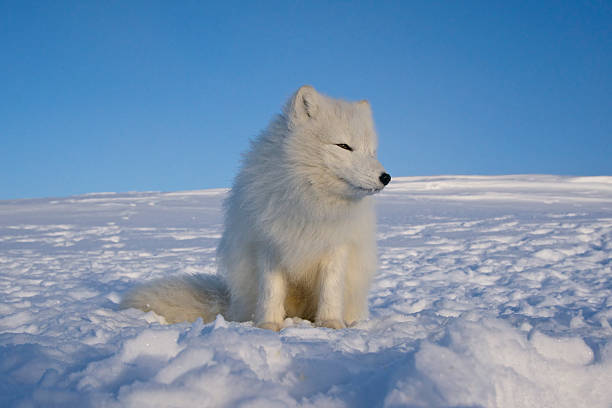arcticfox: (303, 100, 411, 223)
